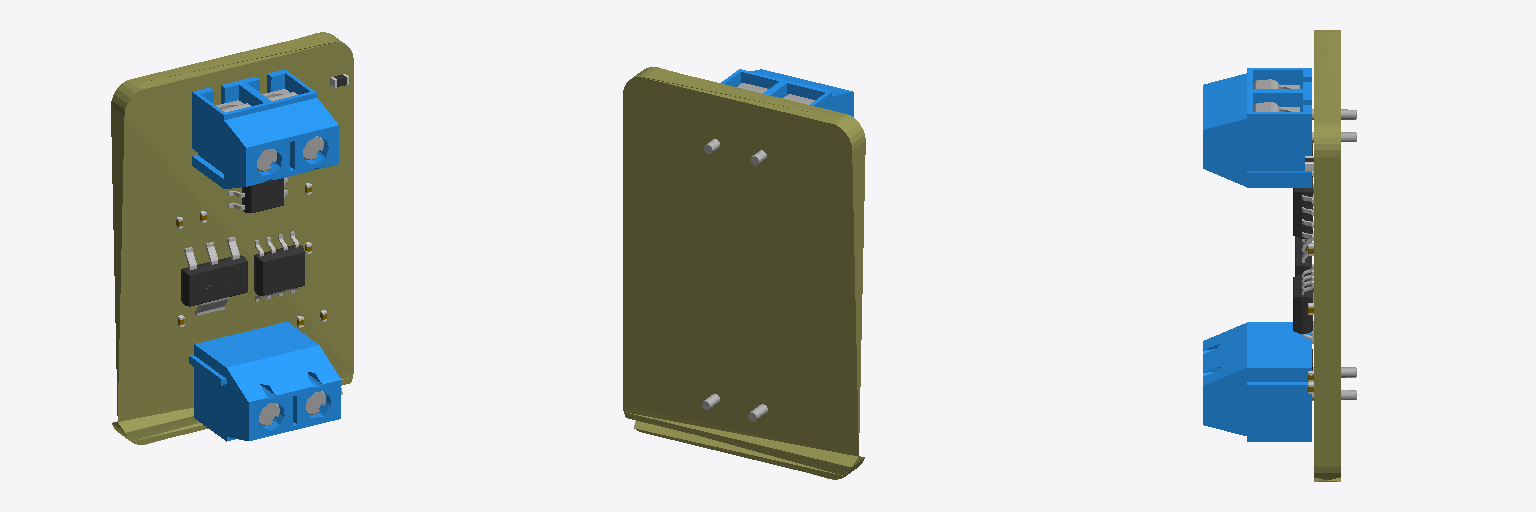
The model's file is OBJ_PCB_Satima_s2.obj.
3 views of the same model, side by side, from view 1: azimuth 30°, elevation 25°; view 2: azimuth 150°, elevation 25°; view 3: azimuth 270°, elevation 25° (orthographic).
Bounding box in the file's own units: 97.23 × 144 × 56.28.